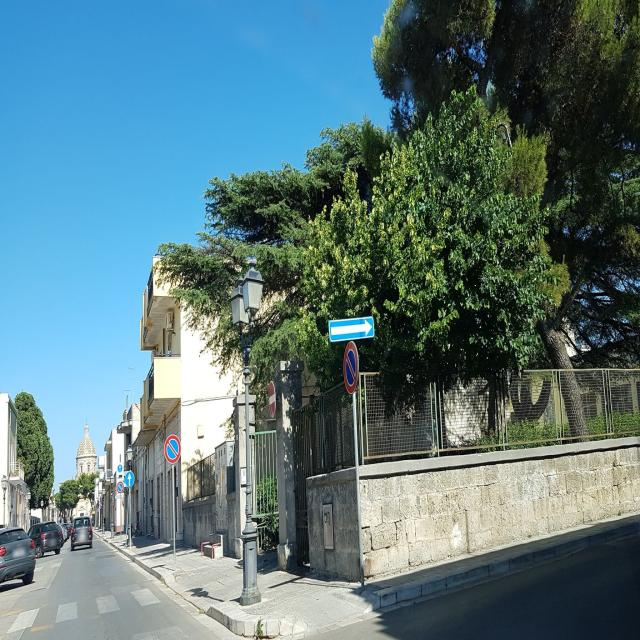forb_stopping: (343, 341, 357, 395), (164, 434, 181, 463), (117, 481, 124, 493)
